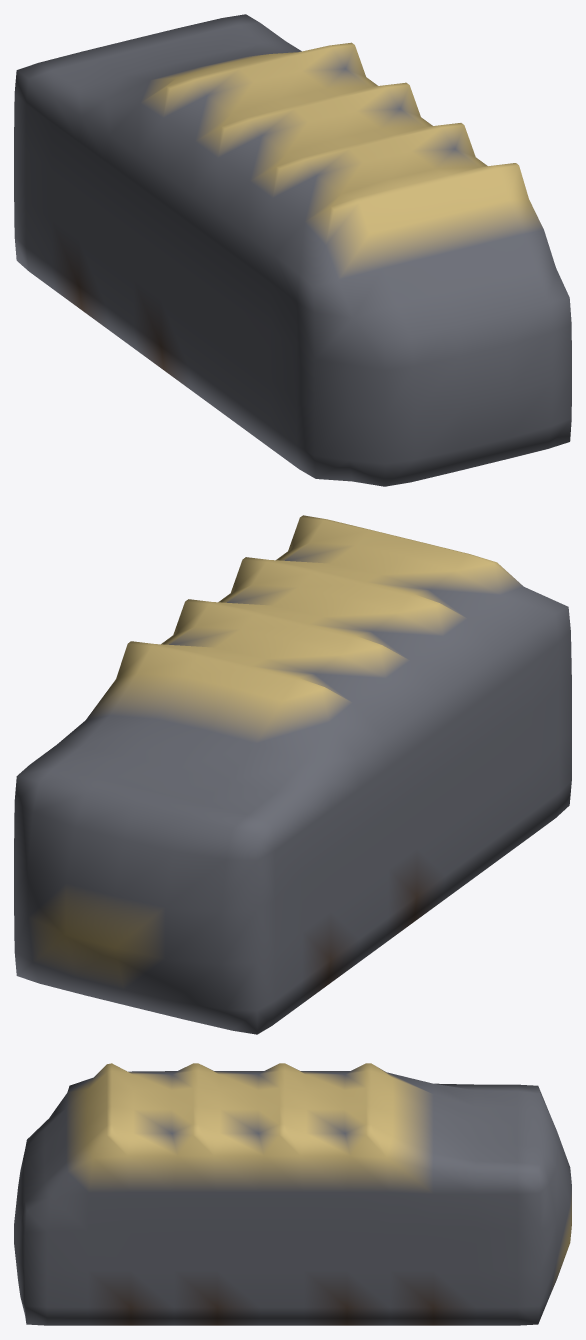
File: plate_legendary_boot_foot_L_lod1.glb
The picture shows the model from 3 angles, top to bottom: view 1: azimuth 30°, elevation 25°; view 2: azimuth 150°, elevation 25°; view 3: azimuth 270°, elevation 25°; orthographic projection. The views are drawn at different scales.
Parts seen in each view (by area): view 1: plate_legendary_boot_foot_L_lod1; view 2: plate_legendary_boot_foot_L_lod1; view 3: plate_legendary_boot_foot_L_lod1.
Boxes of the visible parts, left/top/right/bottom form: plate_legendary_boot_foot_L_lod1: left=14, top=14, right=571, bottom=486; plate_legendary_boot_foot_L_lod1: left=14, top=515, right=571, bottom=1034; plate_legendary_boot_foot_L_lod1: left=14, top=1063, right=571, bottom=1325.
Size of the model in its own units: 0.12 by 0.1198 by 0.3098.
